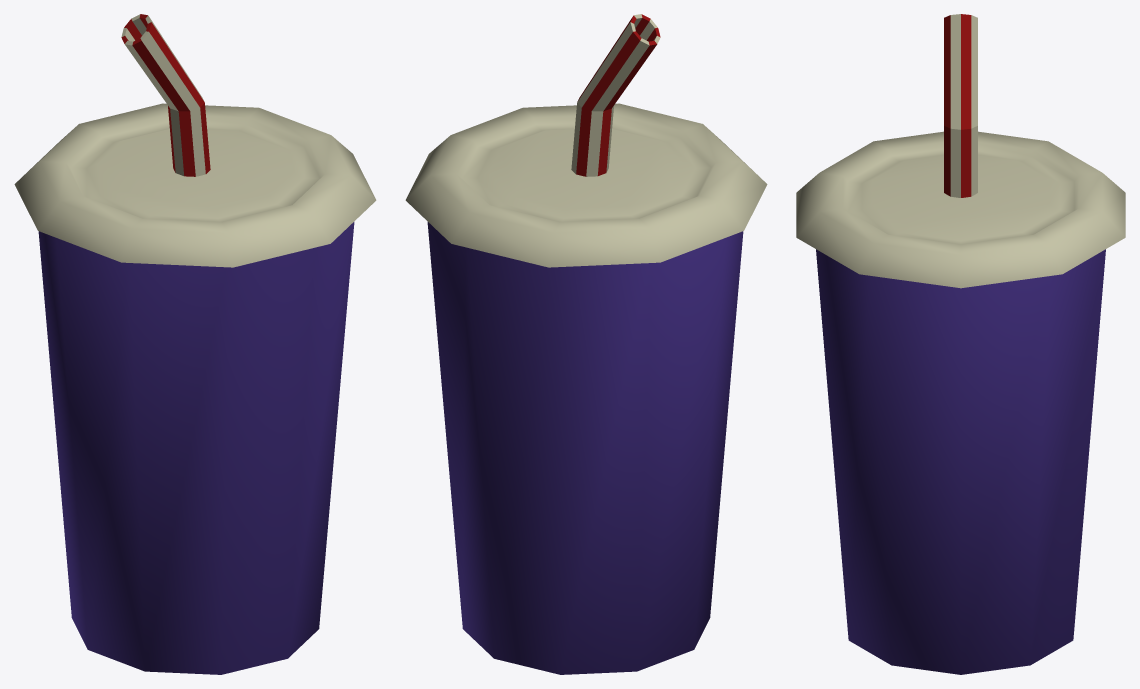
Rendered from Milkshake_Vert.fbx.
3 renders of one model, left to right at view 1: azimuth 30°, elevation 25°; view 2: azimuth 150°, elevation 25°; view 3: azimuth 270°, elevation 25°, orthographic. The views are drawn at different scales.
Parts seen in each view (by area): view 1: pCylinder70; view 2: pCylinder70; view 3: pCylinder70.
Part boxes in pixels (left/top/right/bottom): pCylinder70: left=14, top=14, right=376, bottom=674; pCylinder70: left=405, top=14, right=767, bottom=674; pCylinder70: left=796, top=14, right=1125, bottom=674.
Size of the model in its own units: 26.65 by 50.08 by 25.35.
